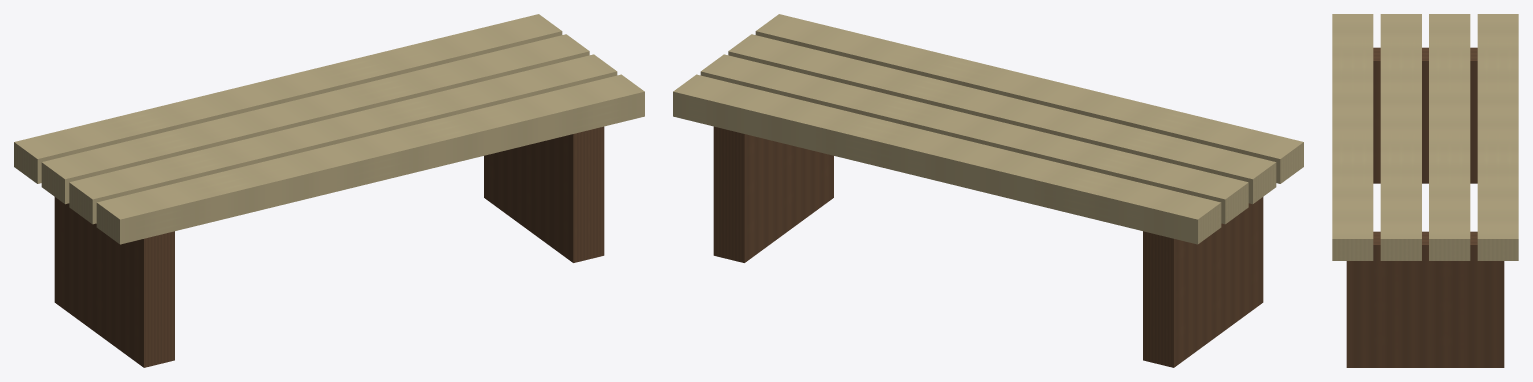
Rendered from atlas100-clockwork-util03.glb.
3 renders of one model, left to right at view 1: azimuth 30°, elevation 25°; view 2: azimuth 150°, elevation 25°; view 3: azimuth 270°, elevation 25°, orthographic. The views are drawn at different scales.
Parts seen in each view (by area): view 1: atlas100-clockwork-util03:part-005, atlas100-clockwork-util03:part-003, atlas100-clockwork-util03:part-002, atlas100-clockwork-util03:part-004, atlas100-clockwork-util03:part-000, atlas100-clockwork-util03:part-001; view 2: atlas100-clockwork-util03:part-002, atlas100-clockwork-util03:part-004, atlas100-clockwork-util03:part-003, atlas100-clockwork-util03:part-005, atlas100-clockwork-util03:part-000, atlas100-clockwork-util03:part-001; view 3: atlas100-clockwork-util03:part-001, atlas100-clockwork-util03:part-002, atlas100-clockwork-util03:part-003, atlas100-clockwork-util03:part-004, atlas100-clockwork-util03:part-005, atlas100-clockwork-util03:part-000.
Part boxes in pixels (<box>): atlas100-clockwork-util03:part-005: <box>96,74,644,244</box>; atlas100-clockwork-util03:part-003: <box>41,34,589,204</box>; atlas100-clockwork-util03:part-002: <box>14,14,562,183</box>; atlas100-clockwork-util03:part-004: <box>69,54,617,224</box>; atlas100-clockwork-util03:part-000: <box>54,197,174,367</box>; atlas100-clockwork-util03:part-001: <box>484,126,604,262</box>; atlas100-clockwork-util03:part-002: <box>673,74,1221,244</box>; atlas100-clockwork-util03:part-004: <box>728,34,1276,204</box>; atlas100-clockwork-util03:part-003: <box>700,54,1248,224</box>; atlas100-clockwork-util03:part-005: <box>755,14,1303,183</box>; atlas100-clockwork-util03:part-000: <box>1143,197,1263,367</box>; atlas100-clockwork-util03:part-001: <box>713,126,833,262</box>; atlas100-clockwork-util03:part-001: <box>1346,231,1504,367</box>; atlas100-clockwork-util03:part-002: <box>1477,14,1518,260</box>; atlas100-clockwork-util03:part-003: <box>1429,14,1470,260</box>; atlas100-clockwork-util03:part-004: <box>1380,14,1421,260</box>; atlas100-clockwork-util03:part-005: <box>1332,14,1373,260</box>; atlas100-clockwork-util03:part-000: <box>1373,47,1477,183</box>.
Bounding box in the file's own units: 2.5 × 0.7397 × 0.8763.
2 materials, 2 textured.
